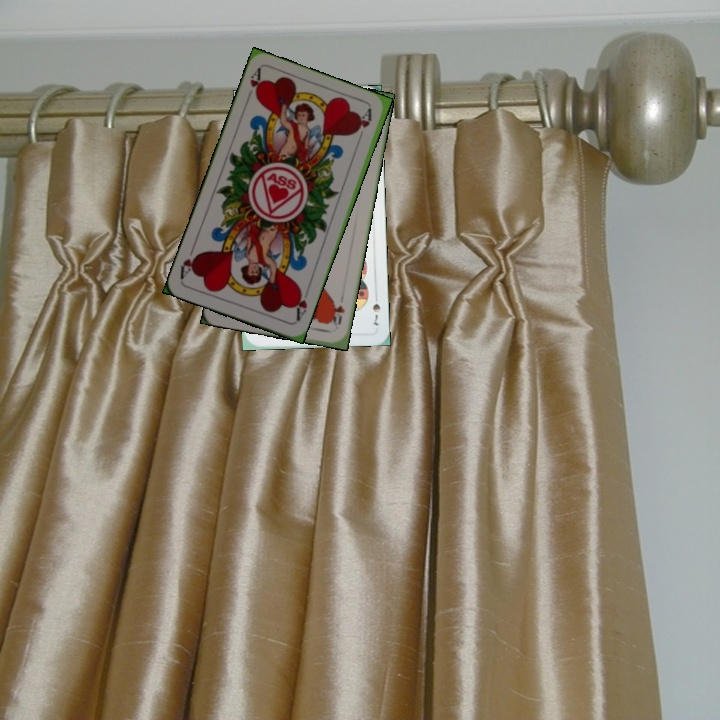HA: (242, 65, 265, 105), (290, 284, 312, 324)
HO: (327, 301, 347, 328)
S7: (369, 289, 383, 328)
